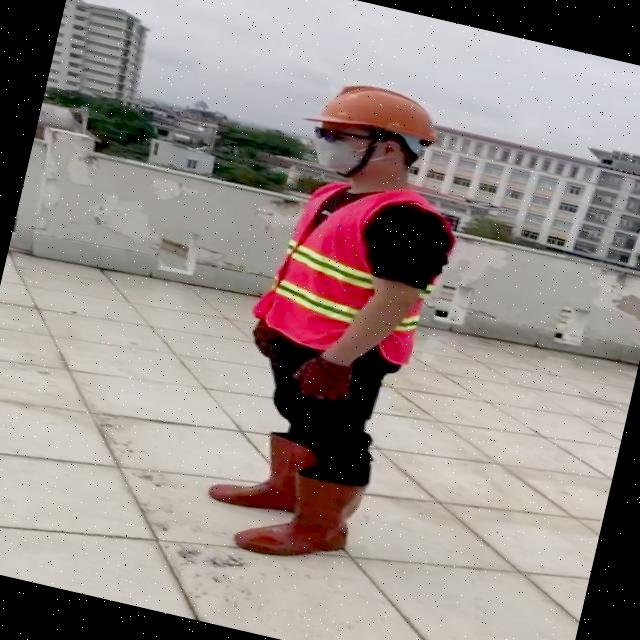boots: (230, 459, 364, 573), (207, 422, 321, 522)
helmet: (305, 70, 453, 154)
vest: (251, 172, 458, 374)
